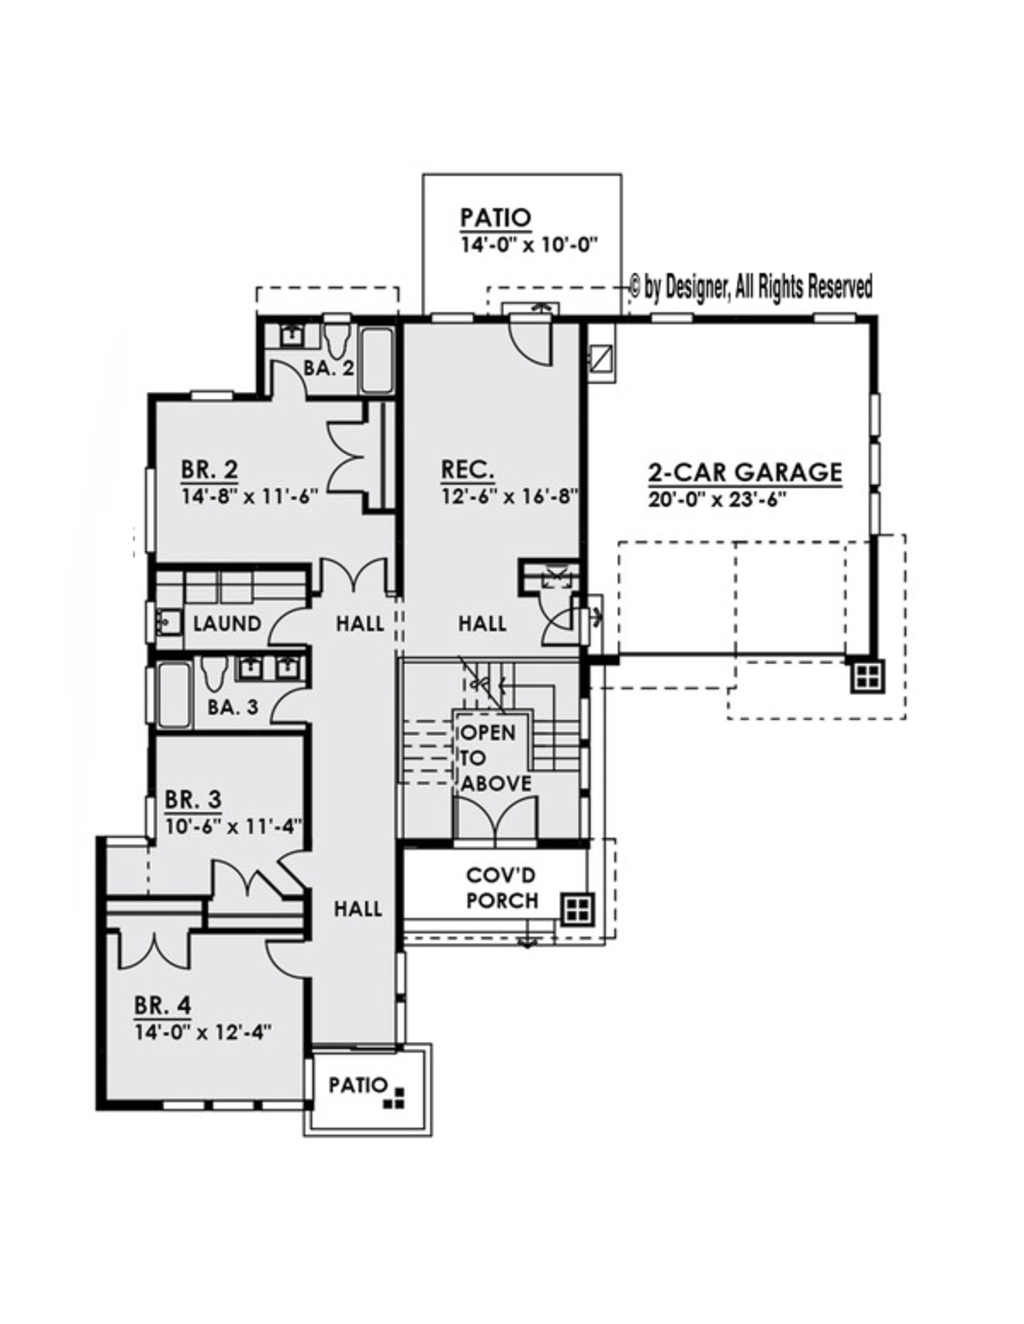door: (445, 791, 545, 848), (113, 925, 193, 973), (315, 552, 396, 598), (324, 415, 365, 504), (206, 853, 280, 901), (256, 929, 314, 983), (503, 318, 559, 370), (265, 601, 308, 650), (268, 686, 317, 728), (265, 356, 311, 401)
large_sink: (317, 317, 352, 366), (200, 654, 234, 694)
stairs: (403, 654, 587, 794)
tub: (155, 660, 193, 729)
windows: (153, 1088, 303, 1117), (862, 383, 886, 535), (139, 464, 163, 552), (391, 945, 408, 1044), (179, 386, 241, 408)
